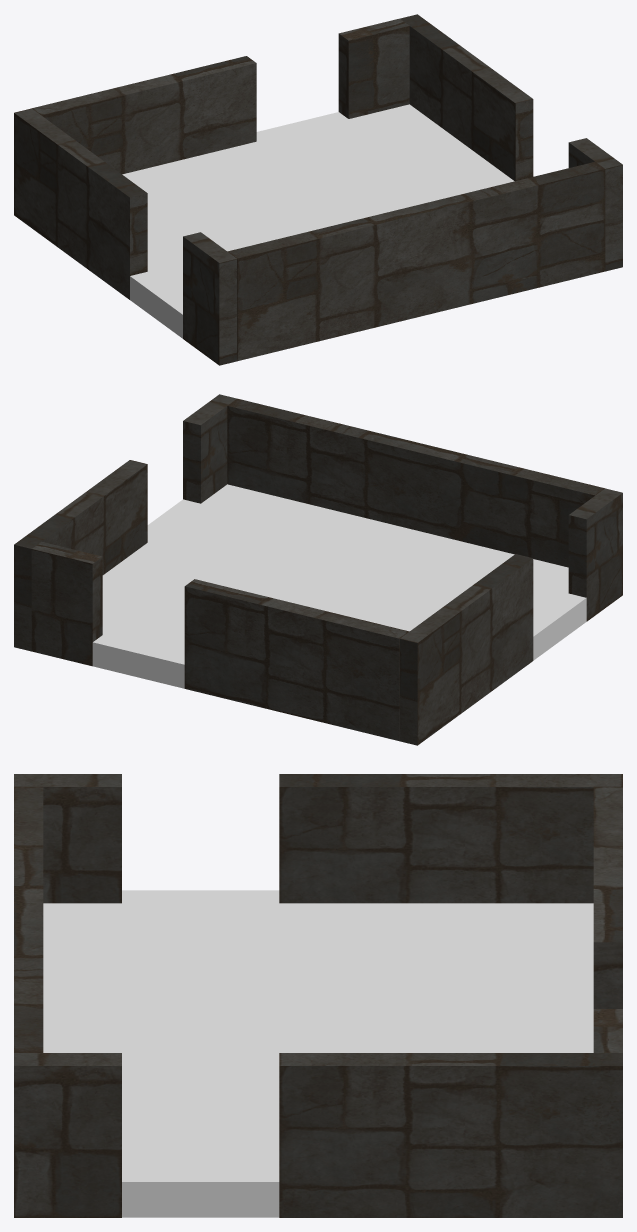
Rendered from BigSquareRoom.fbx.
The picture shows the model from 3 angles, top to bottom: view 1: azimuth 30°, elevation 25°; view 2: azimuth 150°, elevation 25°; view 3: azimuth 270°, elevation 25°; orthographic projection. The views are drawn at different scales.
Parts seen in each view (by area): view 1: Wall, BigSquareRoom, Wall.001, Wall.003, Wall.002; view 2: BigSquareRoom, Wall.001, Wall, Wall.003, Wall.002; view 3: BigSquareRoom, Wall.002, Wall.003, Wall, Wall.001.
Part boxes in pixels (box(x1,y1,x2,y2)): Wall: box(227, 162, 605, 361); BigSquareRoom: box(122, 104, 514, 338); Wall.001: box(32, 18, 409, 174); Wall.003: box(14, 108, 236, 365); Wall.002: box(400, 14, 622, 271); BigSquareRoom: box(92, 484, 586, 688); Wall.001: box(31, 542, 409, 741); Wall: box(227, 398, 604, 567); Wall.003: box(400, 488, 622, 745); Wall.002: box(14, 394, 236, 651); BigSquareRoom: box(43, 890, 593, 1217); Wall.002: box(14, 1053, 622, 1217); Wall.003: box(14, 774, 622, 903); Wall: box(14, 786, 43, 1052); Wall.001: box(593, 786, 622, 1052).
Size of the model in its own units: 17.55 by 15.48 by 4.26.
